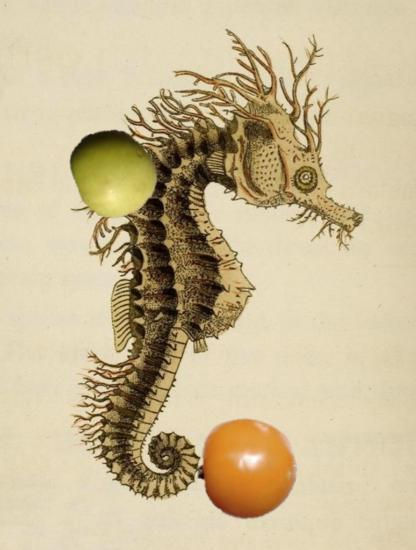Apple: (67, 127, 158, 218)
Tomato: (196, 417, 301, 522)
